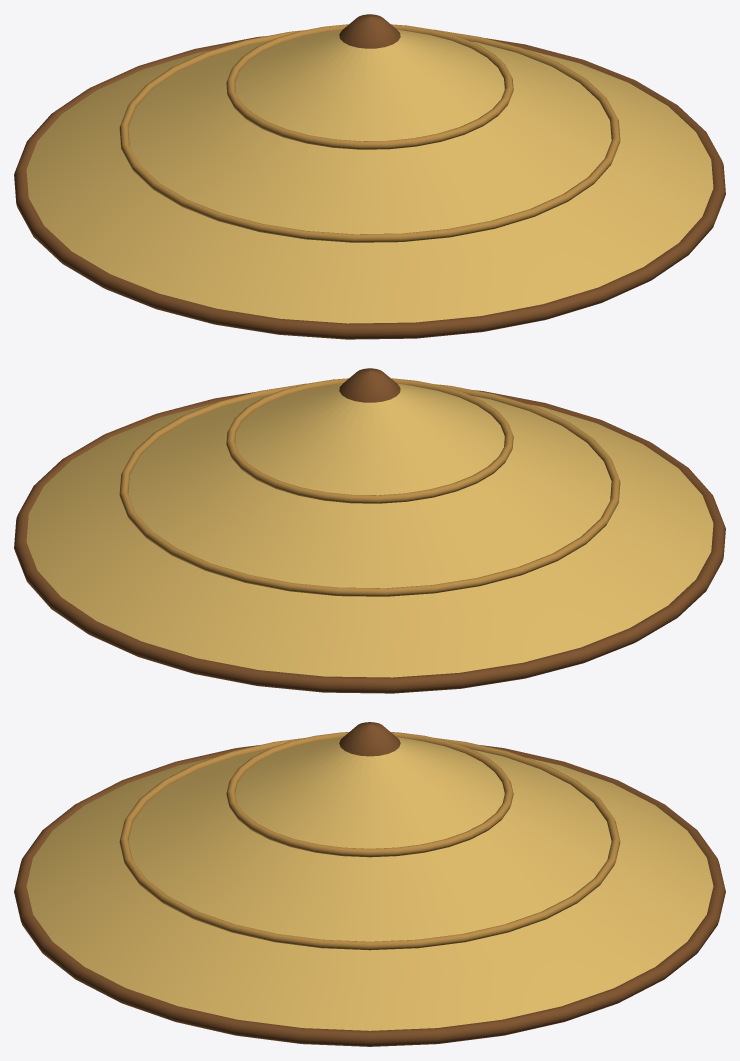
Rendered from chapeu_chines.obj.
The picture shows the model from 3 angles, top to bottom: view 1: azimuth 30°, elevation 25°; view 2: azimuth 150°, elevation 25°; view 3: azimuth 270°, elevation 25°; orthographic projection.
Visible parts, largest first — view 1: Chapeu_Chines; view 2: Chapeu_Chines; view 3: Chapeu_Chines.
Part boxes in pixels (left/top/right/bottom): Chapeu_Chines: left=14, top=14, right=725, bottom=339; Chapeu_Chines: left=14, top=368, right=725, bottom=693; Chapeu_Chines: left=14, top=722, right=725, bottom=1046.
Size of the model in its own units: 2.2 by 0.5938 by 2.2.
